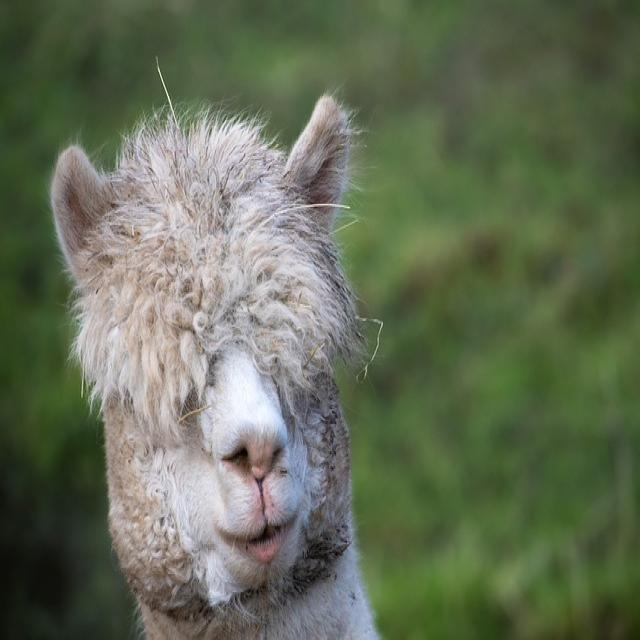Herbivorous: (51, 94, 384, 640)
